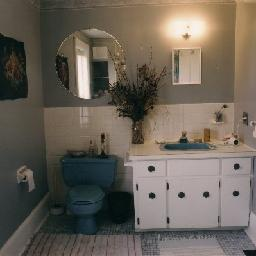Bote de Basura: (108, 190, 133, 227)
Lavamanos: (160, 134, 218, 155)
Sanitario: (61, 150, 115, 239)
